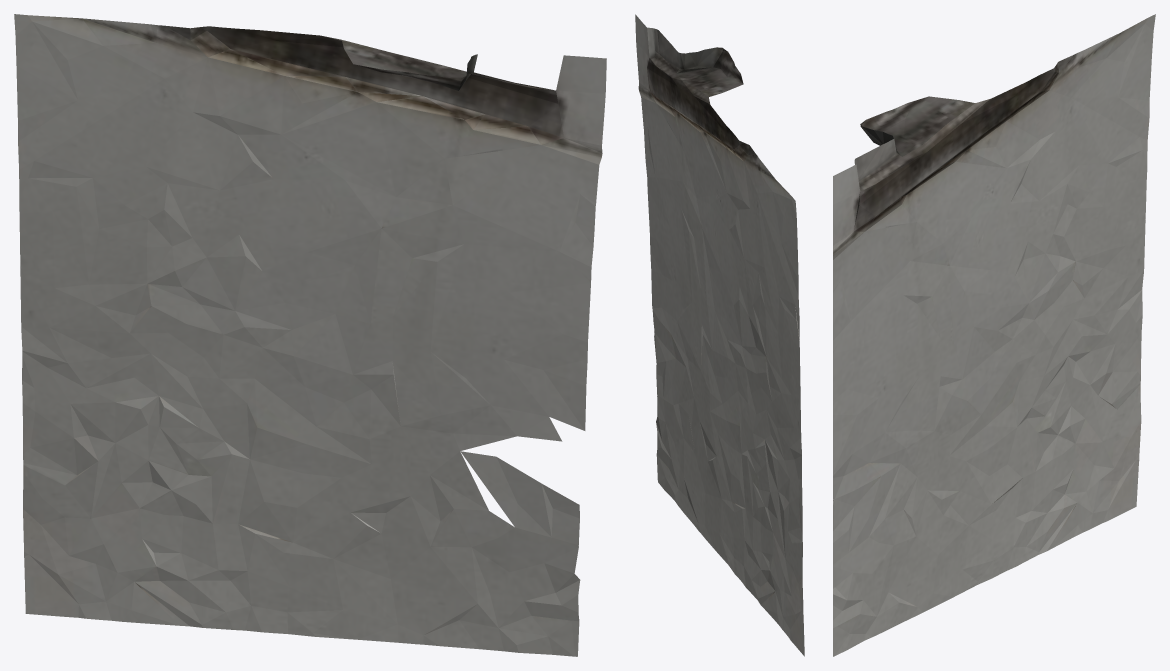
3 renders of one model, left to right at view 1: azimuth 30°, elevation 25°; view 2: azimuth 150°, elevation 25°; view 3: azimuth 270°, elevation 25°, orthographic. The views are drawn at different scales.
Size of the model in its own units: 1.18 by 1.67 by 0.9947.
2 materials, 2 textured.
